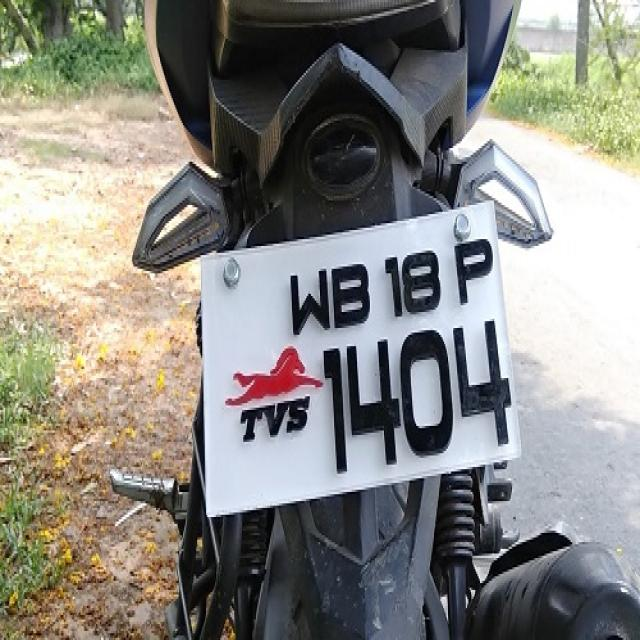plate: (199, 198, 520, 520)
